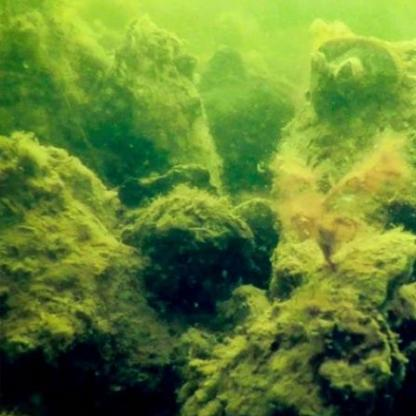Oyster- Indeterminate: (176, 284, 410, 416), (80, 16, 223, 193), (331, 232, 416, 314)
Oyster-Closed: (0, 145, 168, 401), (128, 186, 255, 309), (311, 33, 403, 110)
